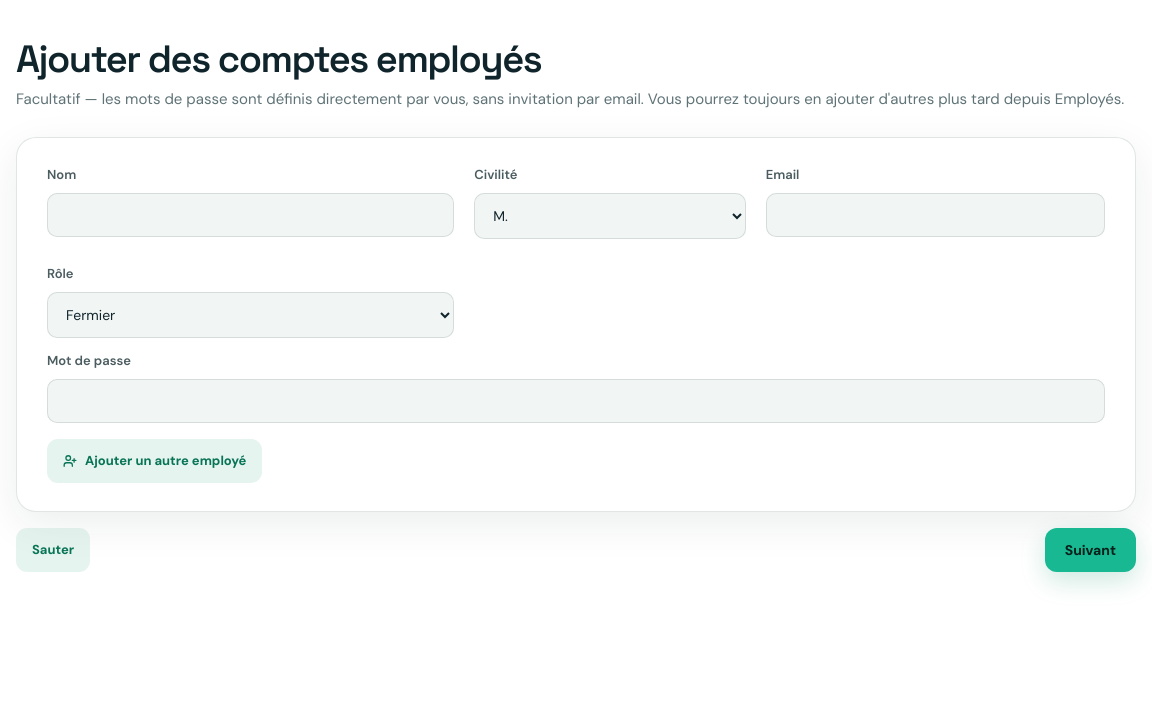
Test: OnboardingEmployeesPage › adding an employee with missing fields is rejected, not silently accepted
The width and height of the screenshot is (1152, 720).
Type "Amina" into the field labelled "Nom".
click(251, 215); type("Amina")  # box top-left (47, 193), bottom-right (454, 237)
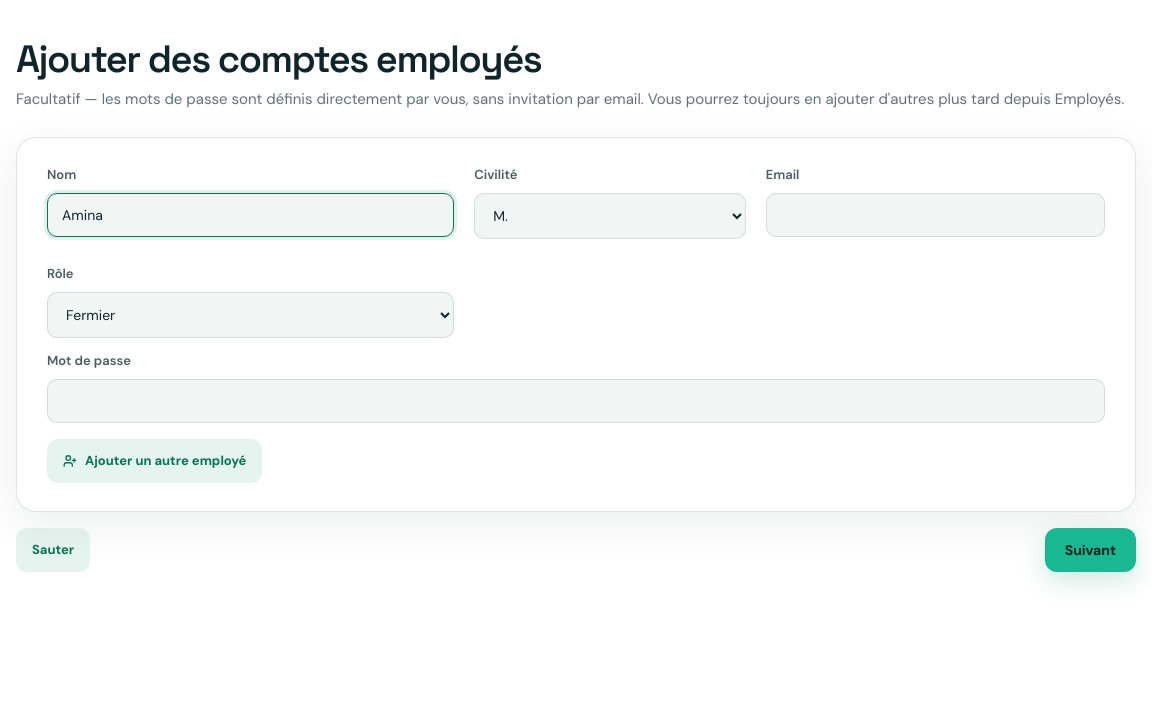
// Email and password left blank on purpose.
Click the button "Ajouter un autre employé".
click(155, 461)  # box top-left (47, 439), bottom-right (262, 483)
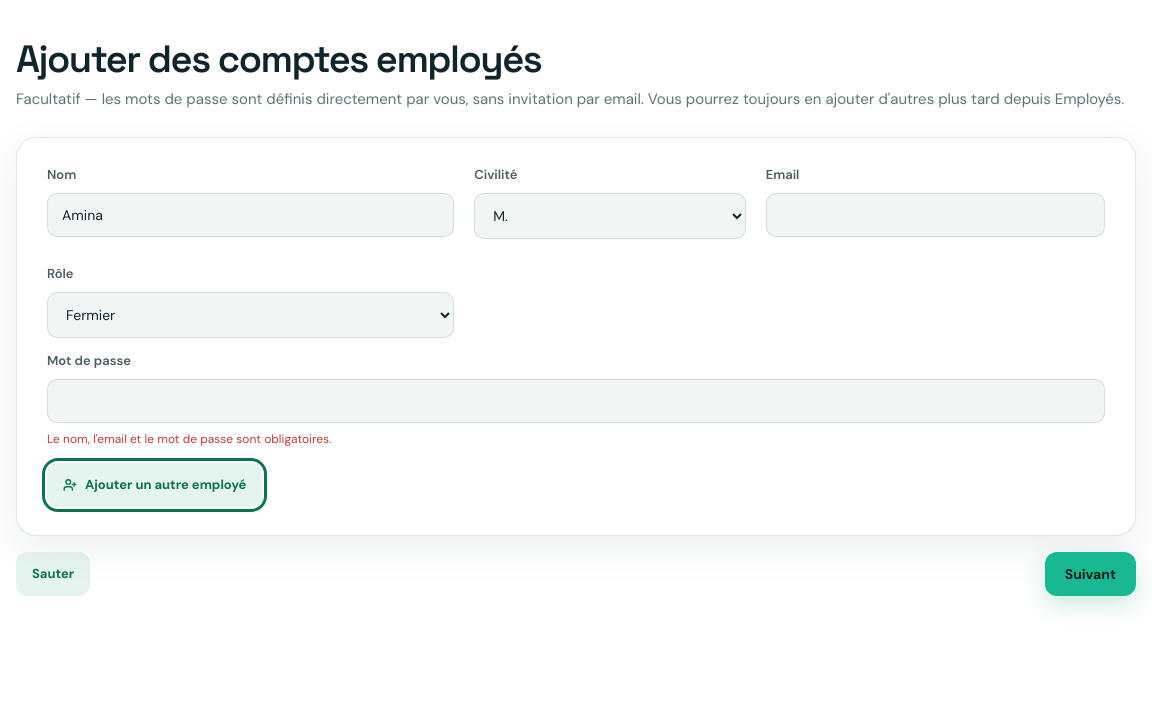
Expected: the text "Le nom, l'email et le mot de passe sont obligatoires." is shown, top-left (47, 431), bottom-right (331, 447)
